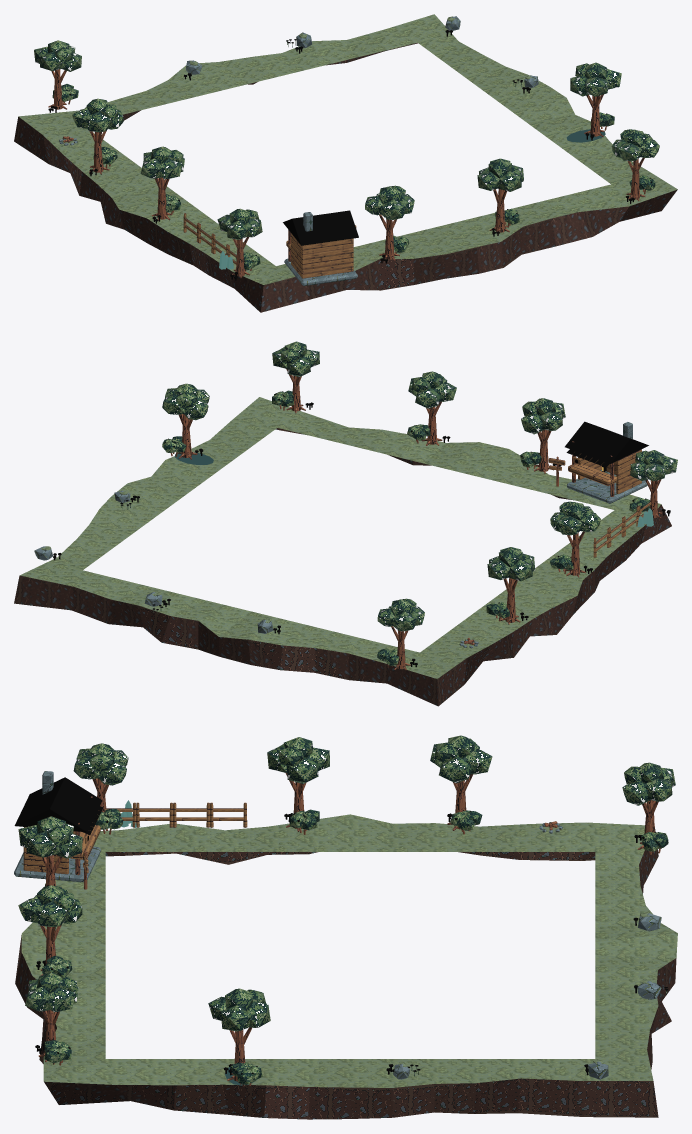
Rendered from entorno.fbx.
3 renders of one model, top to bottom at view 1: azimuth 30°, elevation 25°; view 2: azimuth 150°, elevation 25°; view 3: azimuth 270°, elevation 25°, orthographic. The views are drawn at different scales.
Visible parts, largest first — view 1: bosque_entorno; view 2: bosque_entorno; view 3: bosque_entorno.
Part boxes in pixels (<box>): bosque_entorno: <box>14,14,677,312</box>; bosque_entorno: <box>14,341,677,706</box>; bosque_entorno: <box>14,735,677,1119</box>.
Bounding box in the file's own units: 1657 × 353 × 1655.
Materials: 17 (6 with a texture image).
